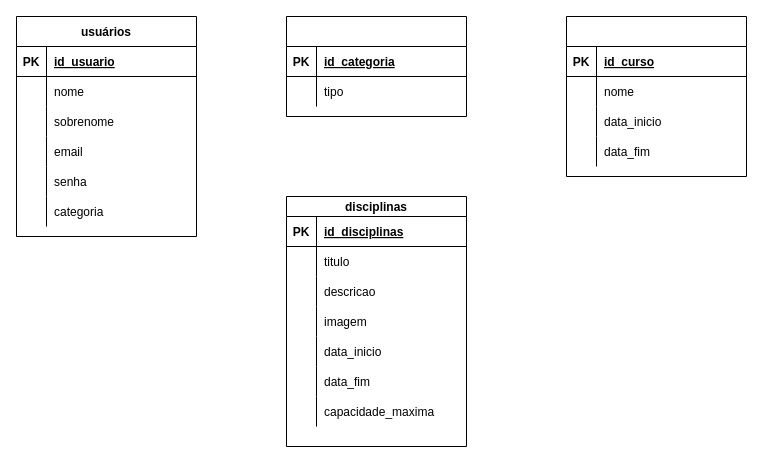
Some shapes in this 763 by 463 pixel diagram are drawn without their labels. Each missing label, with the box of its shape:
categorias: (286, 16, 466, 116)
cursos: (566, 16, 746, 176)
